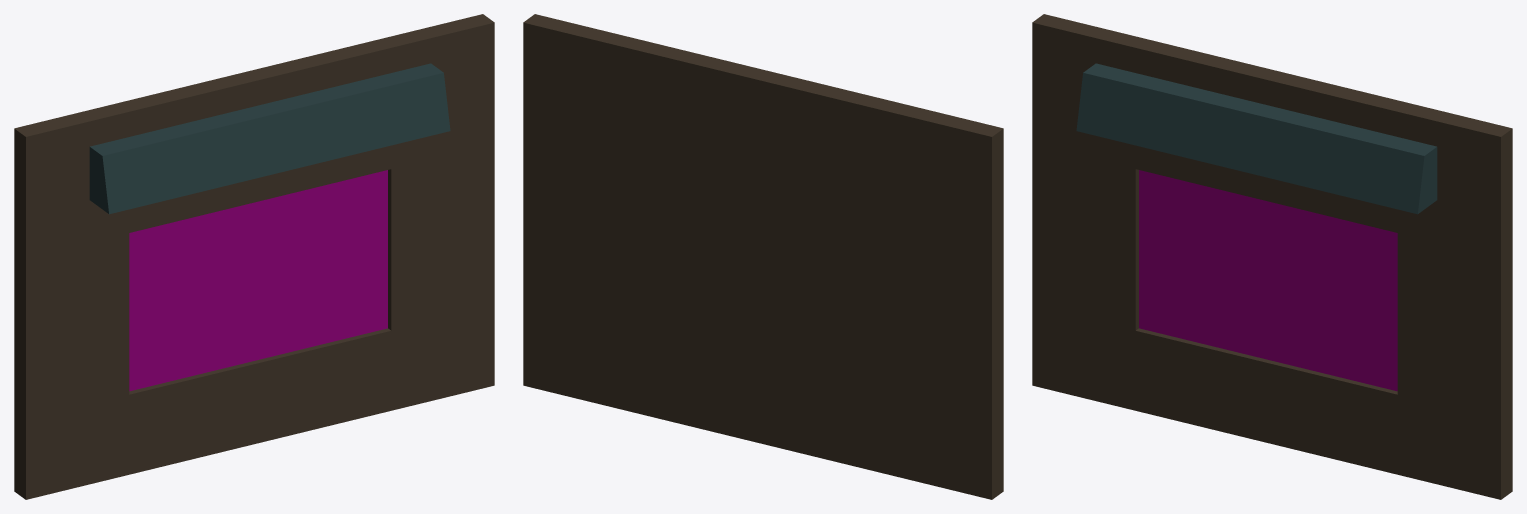
File: staticMesh_prop_doorcooker.fbx
3 views of the same model, side by side, from view 1: azimuth 30°, elevation 25°; view 2: azimuth 150°, elevation 25°; view 3: azimuth 330°, elevation 25° (orthographic).
Parts seen in each view (by area): view 1: polySurface19; view 2: polySurface19; view 3: polySurface19.
Part boxes in pixels (x1,y1,x2,y2): polySurface19: [14, 14, 494, 499]; polySurface19: [523, 14, 1003, 499]; polySurface19: [1032, 14, 1512, 499].
Bounding box in the file's own units: 184 × 136 × 21.22.
